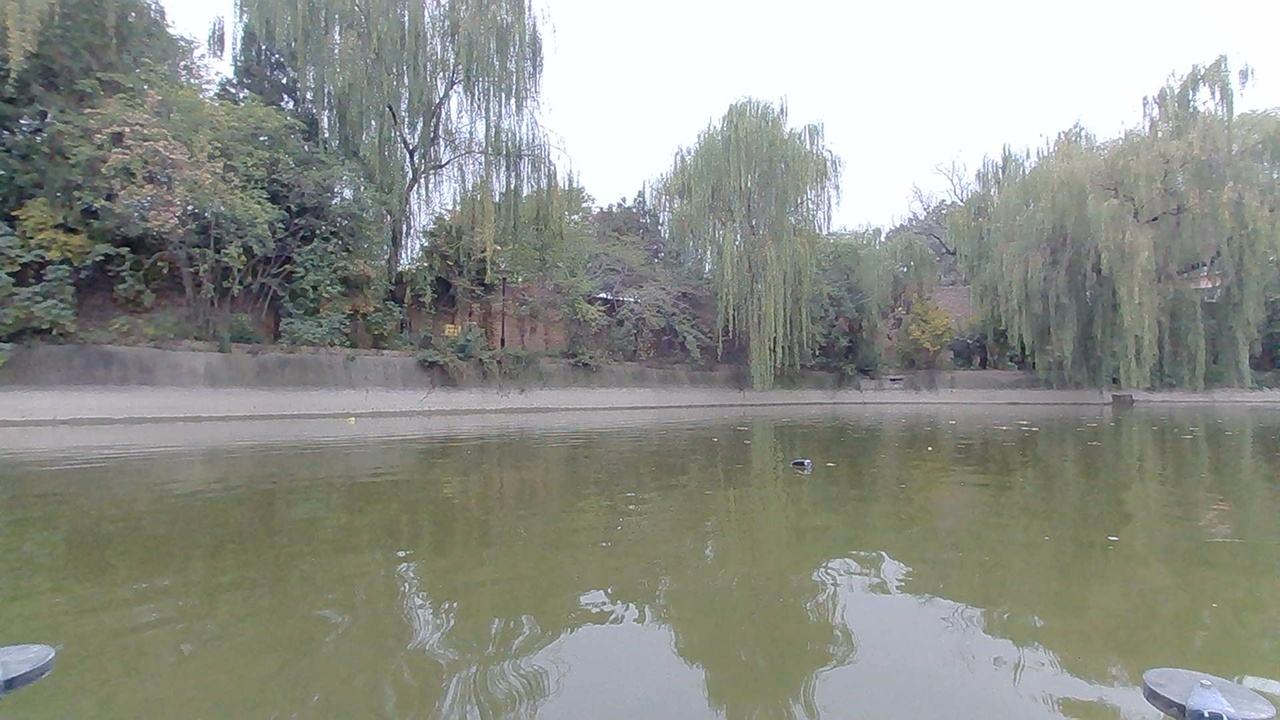bottle: (789, 450, 817, 476)
